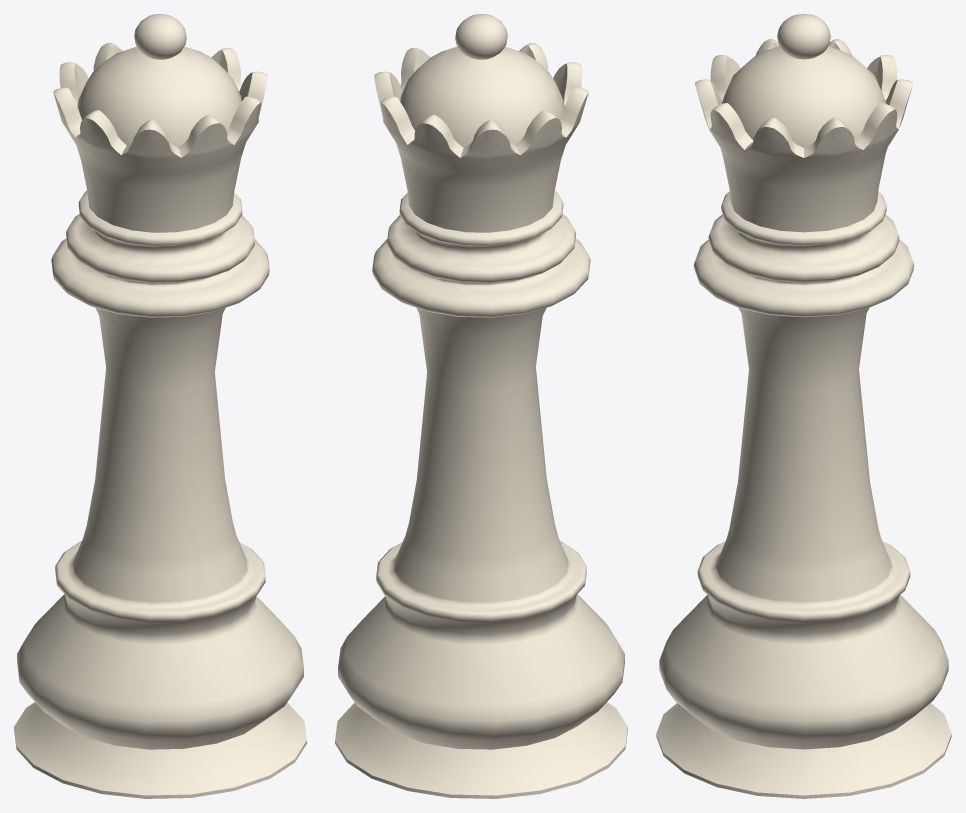
The model's file is white-queen.glb.
3 views of the same model, side by side, from view 1: azimuth 30°, elevation 25°; view 2: azimuth 150°, elevation 25°; view 3: azimuth 270°, elevation 25° (orthographic).
Parts seen in each view (by area): view 1: Queen1; view 2: Queen1; view 3: Queen1.
Part boxes in pixels (x1=…): Queen1: x1=14, y1=14, x2=306, y2=798; Queen1: x1=335, y1=14, x2=627, y2=798; Queen1: x1=656, y1=14, x2=951, y2=798.
Size of the model in its own units: 0.0464 by 0.1256 by 0.0467.
